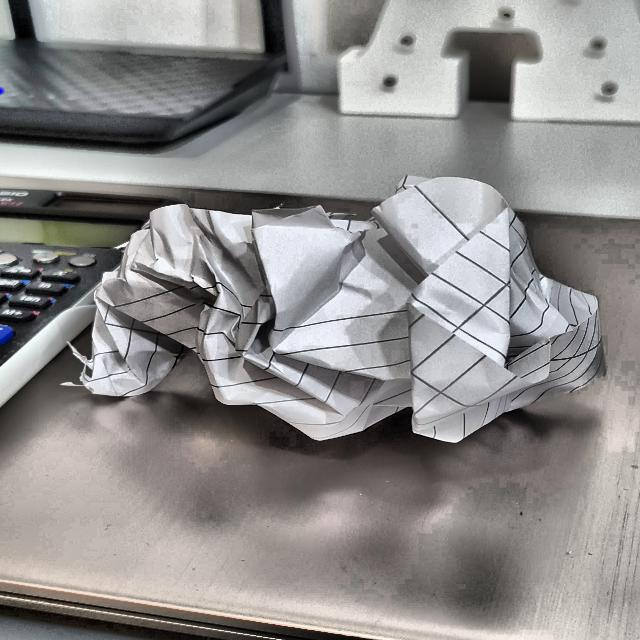paper: (87, 176, 592, 459)
